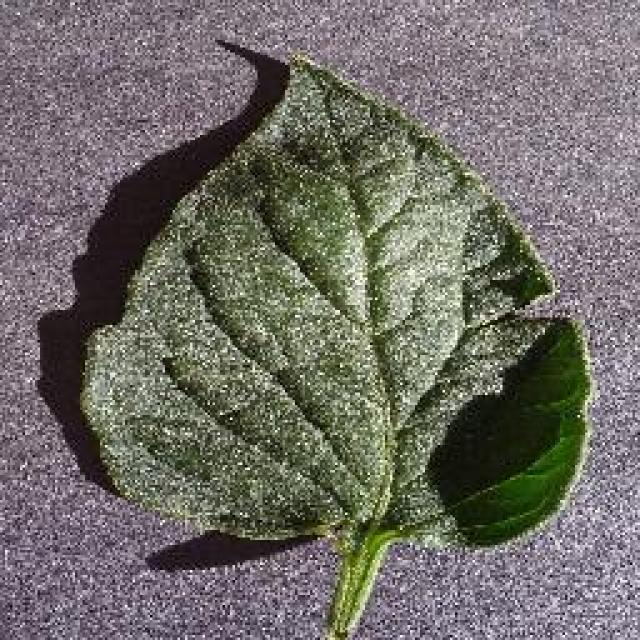Tomato___healthy: (82, 50, 596, 638)
